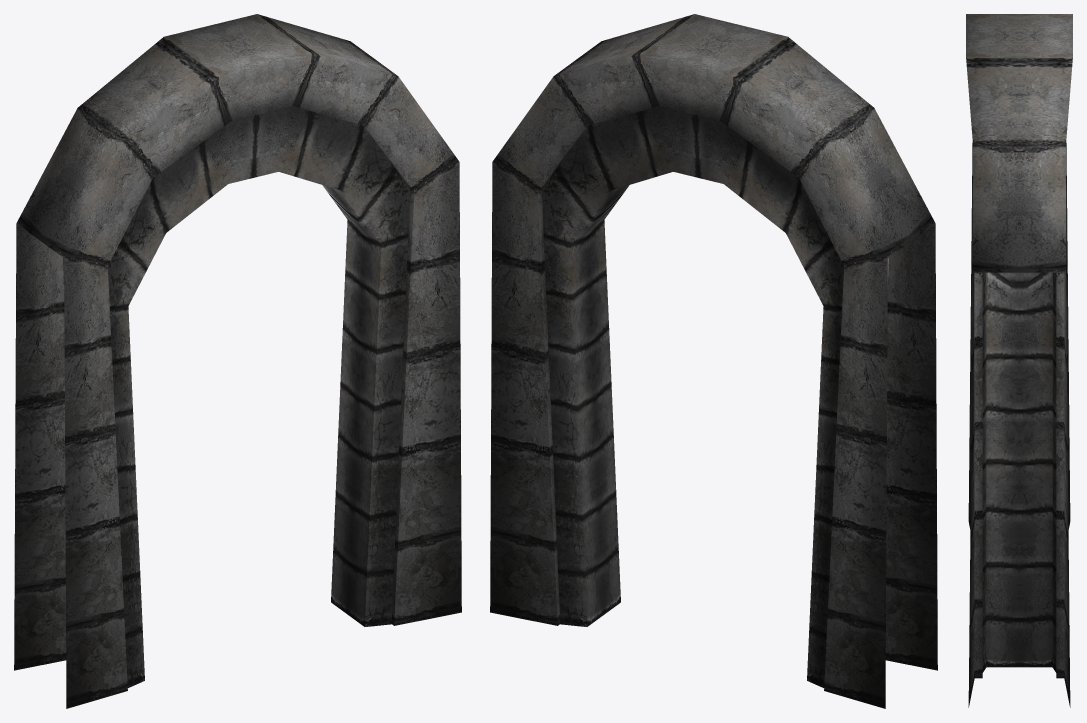
Rendered from arc.obj.
3 renders of one model, left to right at view 1: azimuth 30°, elevation 25°; view 2: azimuth 150°, elevation 25°; view 3: azimuth 270°, elevation 25°, orthographic. The views are drawn at different scales.
Parts seen in each view (by area): view 1: Grim_Bear_Arc; view 2: Grim_Bear_Arc; view 3: Grim_Bear_Arc.
Part boxes in pixels (left/top/right/bottom): Grim_Bear_Arc: left=14, top=14, right=461, bottom=708; Grim_Bear_Arc: left=490, top=14, right=937, bottom=708; Grim_Bear_Arc: left=966, top=14, right=1072, bottom=707.
Bounding box in the file's own units: 203 × 292 × 48.82.
Materials: 1 (1 with a texture image).
